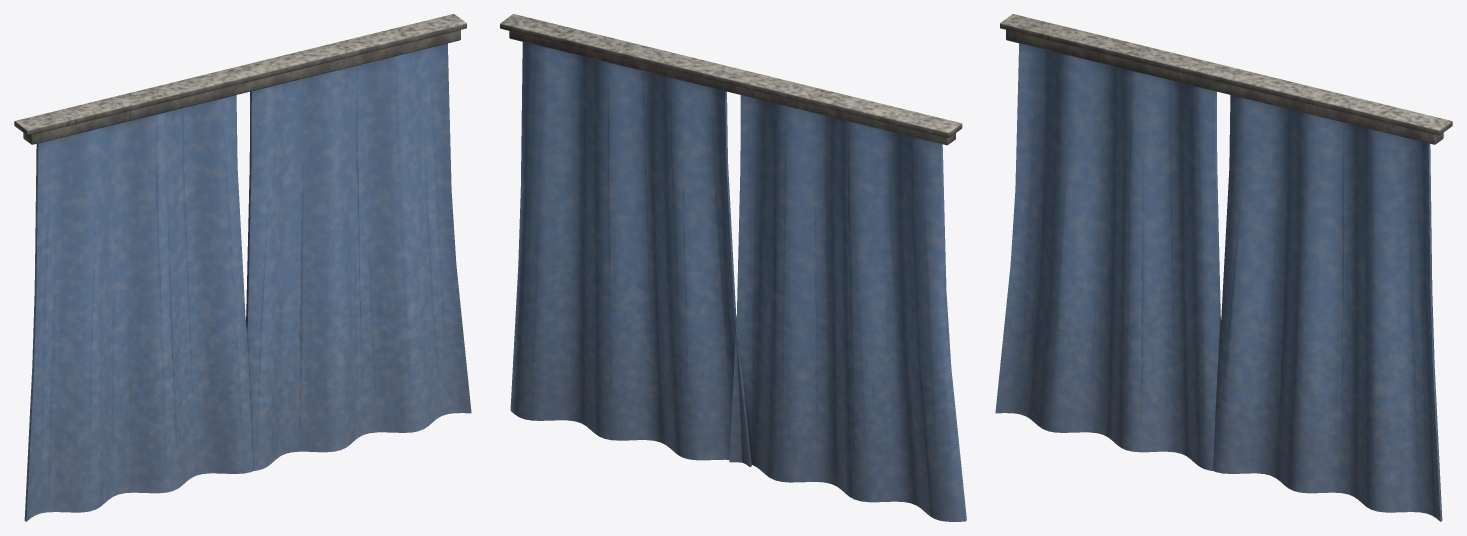
Rendered from curtains.fbx.
3 renders of one model, left to right at view 1: azimuth 30°, elevation 25°; view 2: azimuth 150°, elevation 25°; view 3: azimuth 330°, elevation 25°, orthographic. The views are drawn at different scales.
Visible parts, largest first — view 1: Body; view 2: Body; view 3: Body.
Part boxes in pixels (x1,y1,x2,y2): Body: [14, 14, 471, 521]; Body: [500, 14, 966, 521]; Body: [995, 14, 1452, 521].
Size of the model in its own units: 17.4 by 14.55 by 1.36.
1 material, 1 textured.
